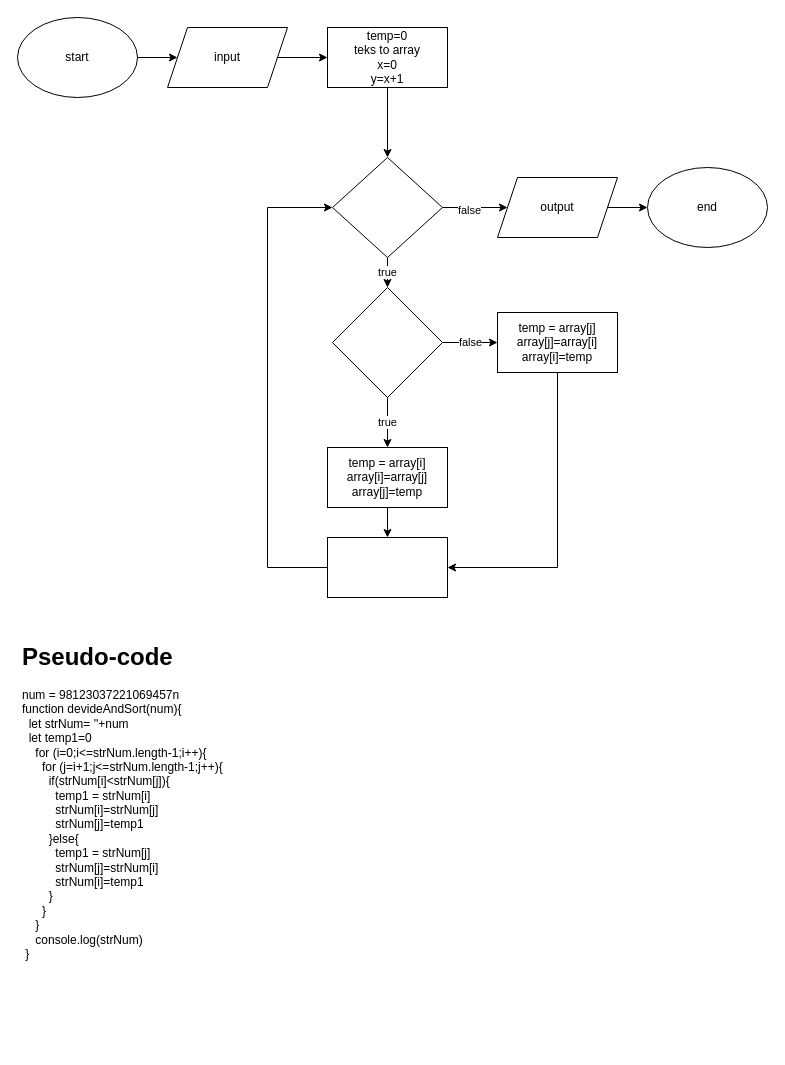
This 785x1065 diagram has some shape labels left out. Each missing label, with the centre of its shape:
"array[i]<array[j[" belongs at point 387,342.
"x++ y++" belongs at point 387,567.
"x<=teks.length-1 y<=teks.length-1" belongs at point 387,207.
